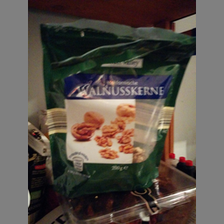nuts: (38, 18, 195, 195)
